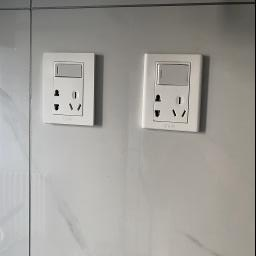outlet: (144, 50, 206, 137), (44, 48, 100, 128)
